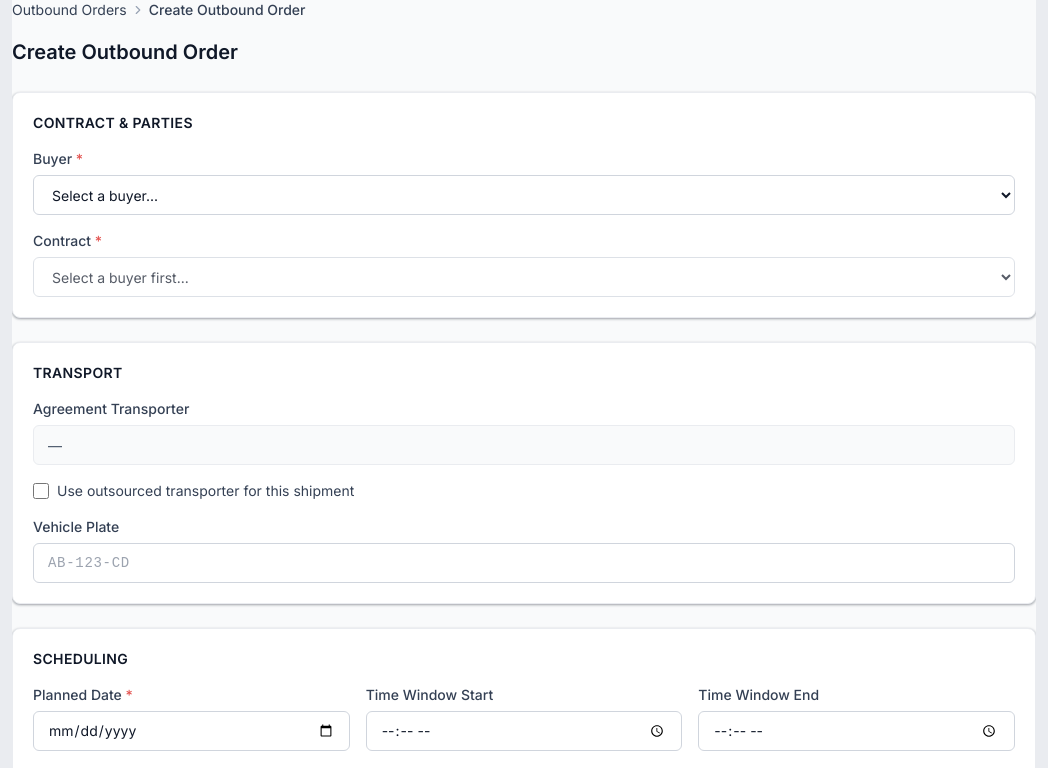
OutboundOrderCreatePage › renders and auto-fills contract related fields
The image size is (1048, 768).
Expected: the heading "Create Outbound Order" is shown, [12,40,238,64]
Select "Buyer GmbH" in the dropdown below "Buyer" at [524, 195], box [33,175,1015,215]
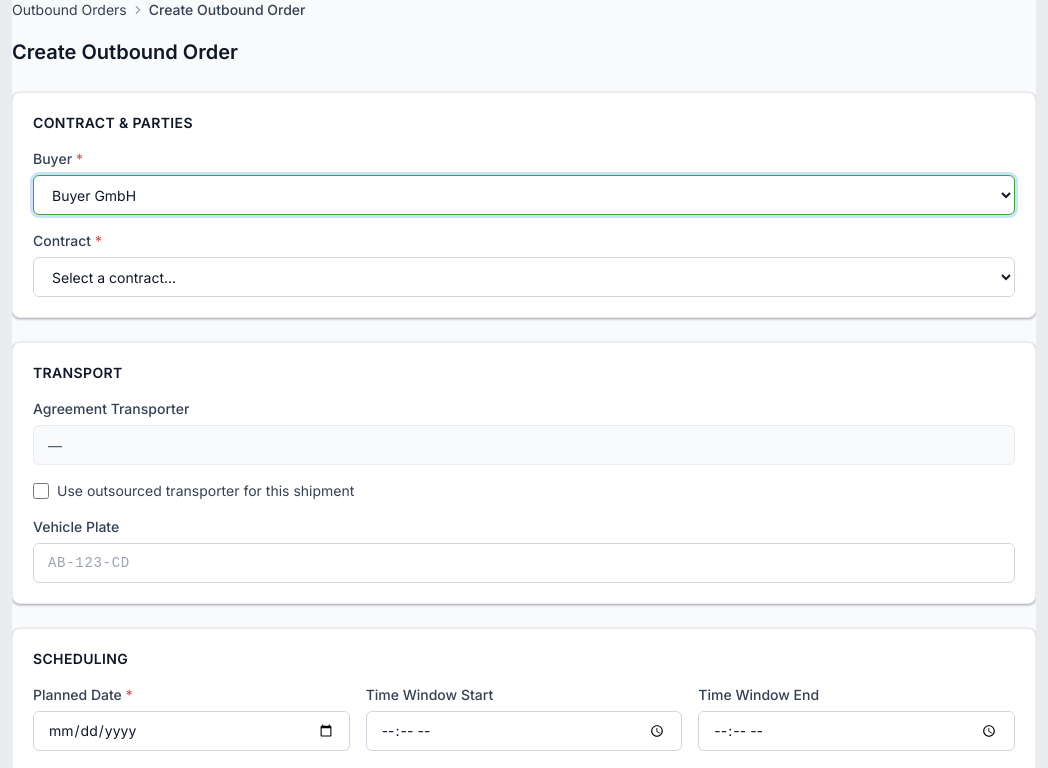
Select "CON-OUT-1 — Outbound Contract" in the 2nd dropdown at [524, 277], box [33,257,1015,297]
(page scrolled)
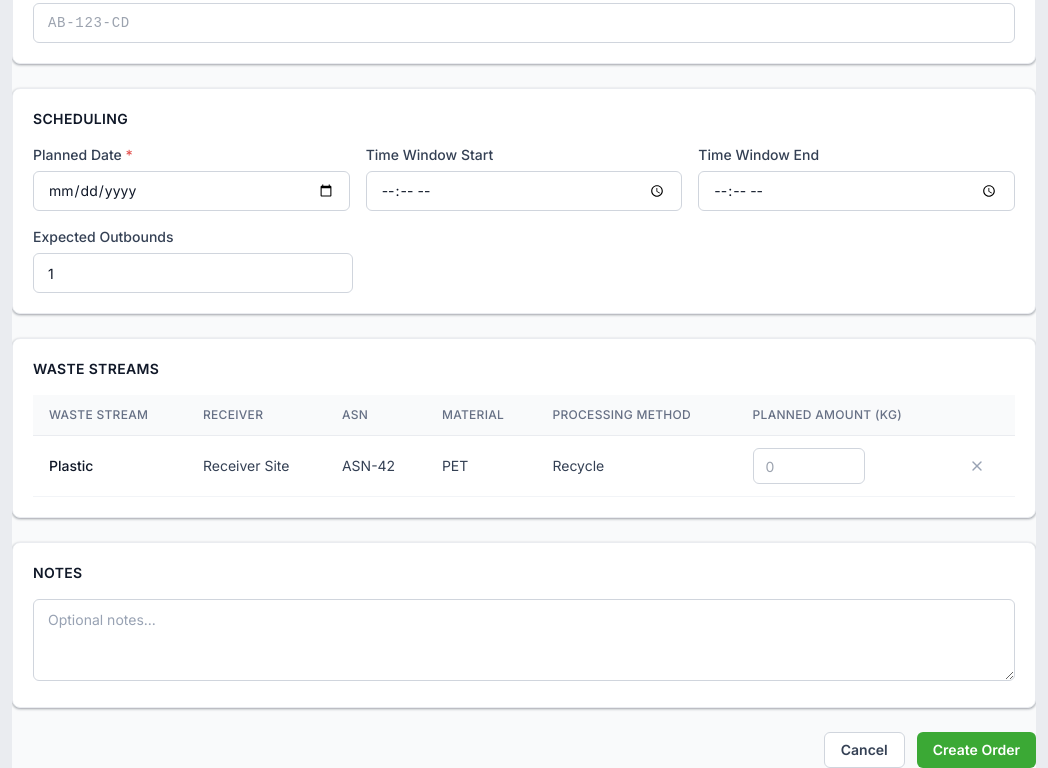
Now the text "Plastic" is shown, box [33,436,187,496]
